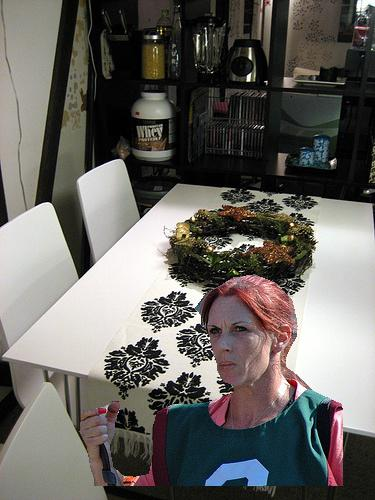tampered: (80, 275, 343, 486)
